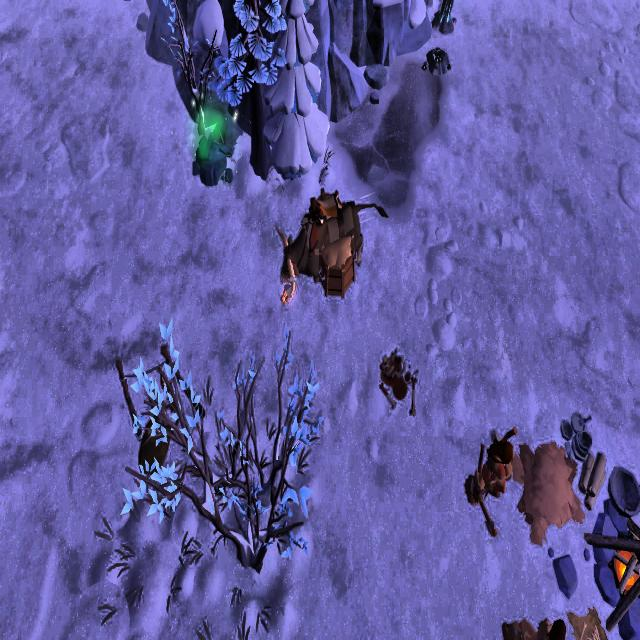enemy_factionKeeper: (474, 421, 514, 537), (508, 608, 564, 640)
ore_t4: (435, 0, 457, 30)
